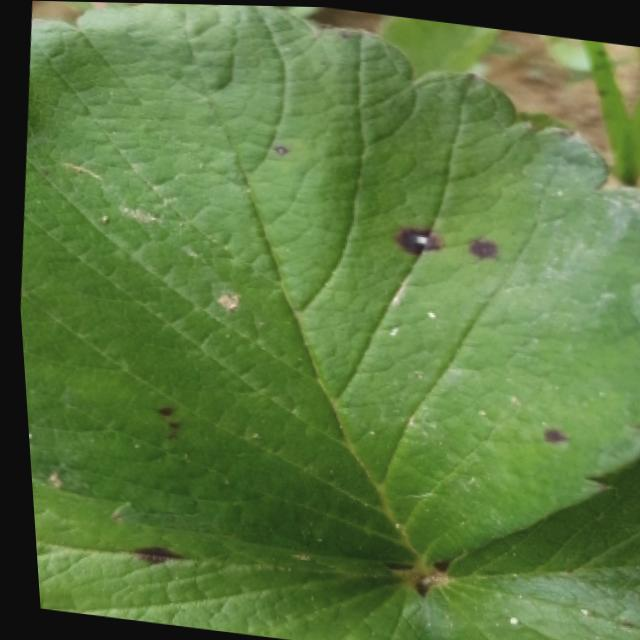Leaf Spot: (16, 2, 640, 564), (25, 477, 415, 640), (402, 447, 640, 640)
